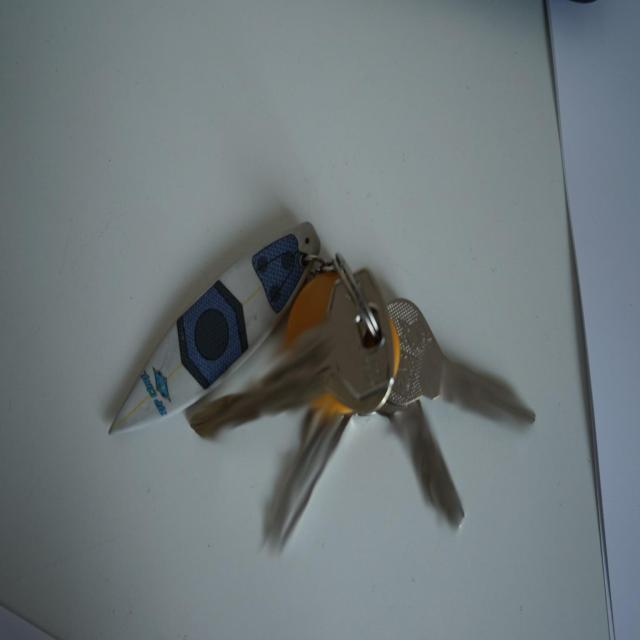Frontdoor keys: (184, 268, 388, 440), (385, 292, 549, 409)
